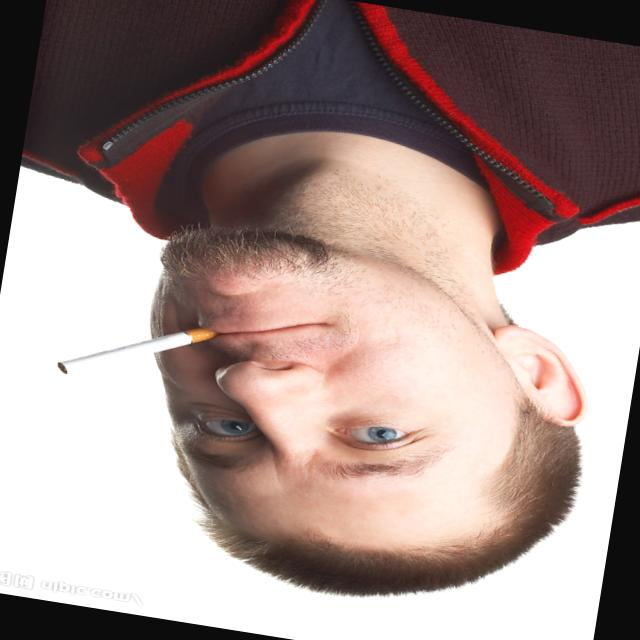cigarette: (55, 302, 211, 398)
